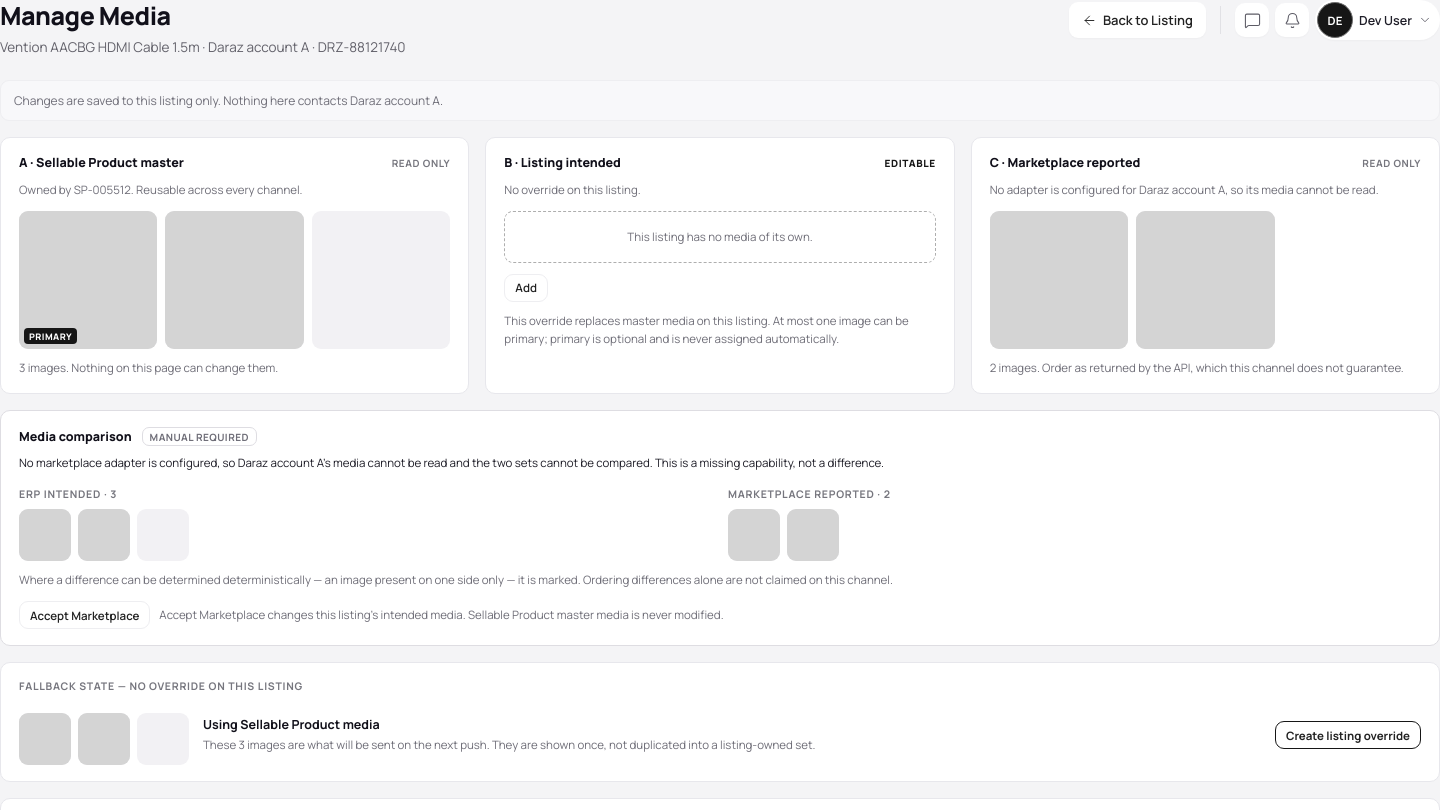
Test: Frame 13 — primary and order › never assigns primary automatically when an image is added
Check: the element with test id "media-master" is shown, box 0,137 -> 469,394
Click the button with test id "media-create-override".
click(1348, 735)  # box 1275,721 -> 1421,749
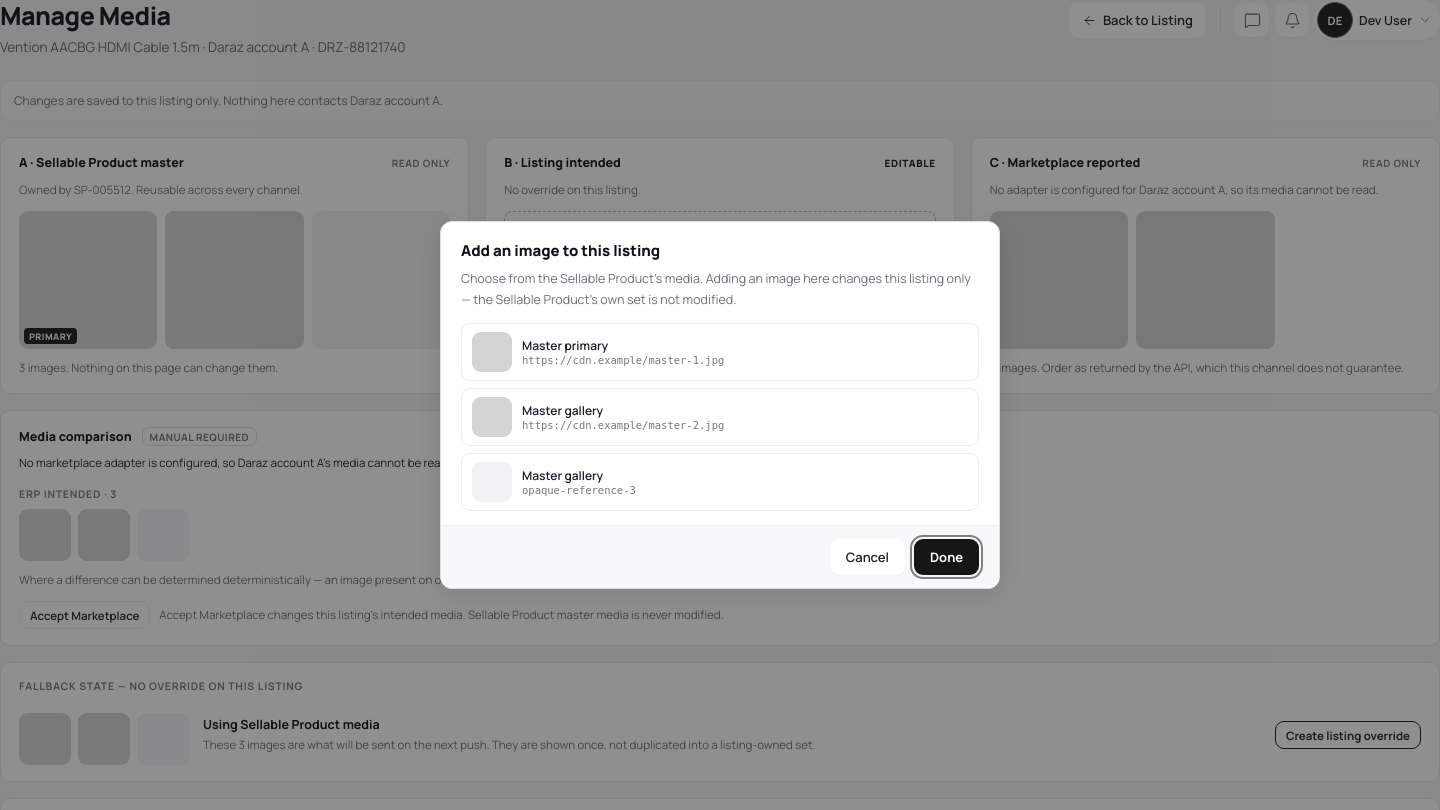
Check: the dialog with test id "media-picker" is shown, box 440,221 -> 1000,589
Click the button with test id "media-picker-option-0".
click(720, 352)  # box 461,323 -> 979,381
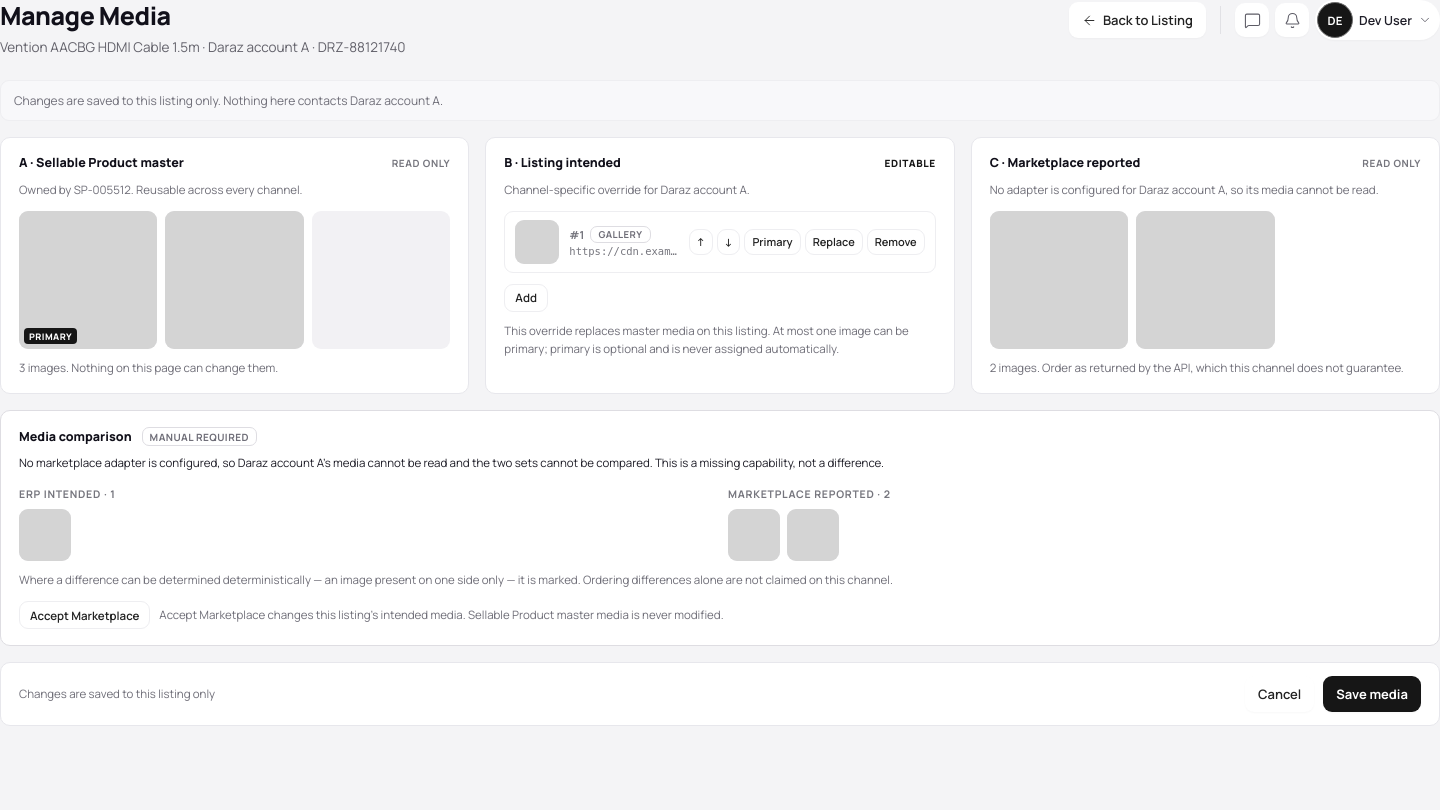
Check: the text with test id "media-item-role-0" reads "GALLERY", box 598,228 -> 642,241
Check: the element with test id "media-item-0" is shown, box 504,211 -> 936,273
